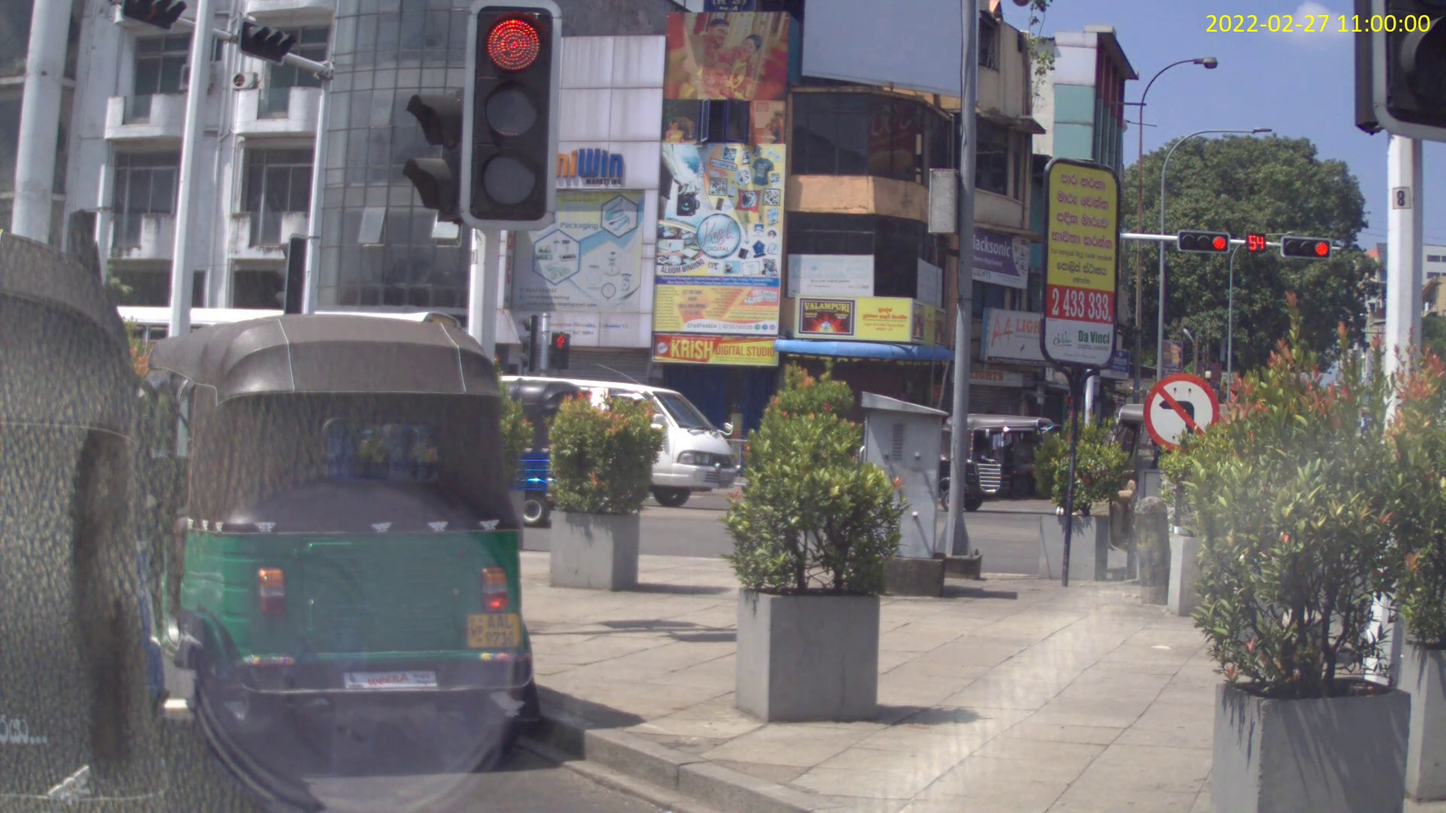Count-down: (1246, 233, 1266, 252)
Red: (459, 0, 563, 230), (1281, 236, 1332, 260), (1176, 230, 1230, 252)
